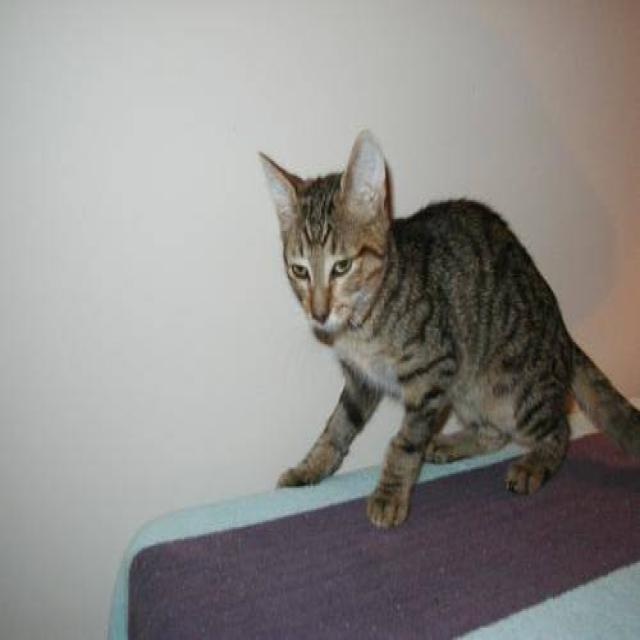cat: (256, 126, 639, 528)
